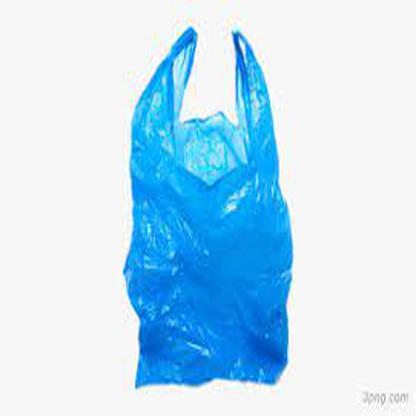plastic bag: (122, 26, 293, 387)
